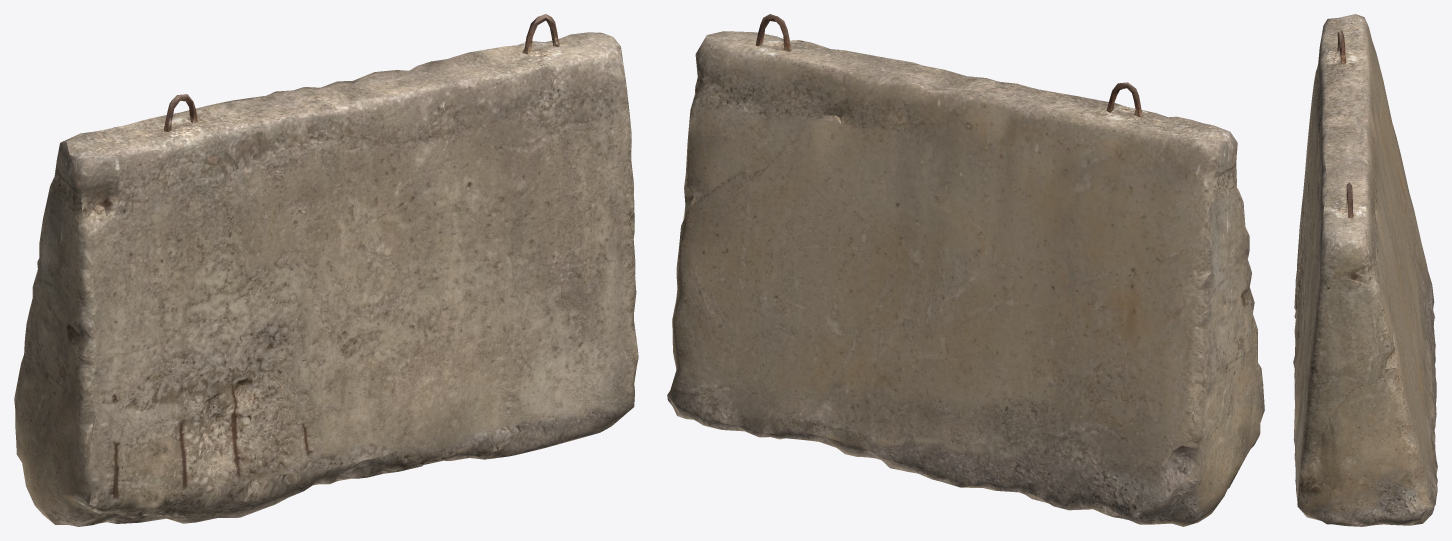
The model's file is concrete_road_barrier_02.glb.
3 renders of one model, left to right at view 1: azimuth 30°, elevation 25°; view 2: azimuth 150°, elevation 25°; view 3: azimuth 270°, elevation 25°, orthographic. The views are drawn at different scales.
Parts seen in each view (by area): view 1: concrete_road_barrier_02; view 2: concrete_road_barrier_02; view 3: concrete_road_barrier_02.
Part boxes in pixels (x1,y1,x2,y2): concrete_road_barrier_02: (14,14,638,526); concrete_road_barrier_02: (667,14,1264,526); concrete_road_barrier_02: (1293,14,1437,526).
Bounding box in the file's own units: 1.56 × 1.11 × 0.4392.
Materials: 1 (1 with a texture image).
